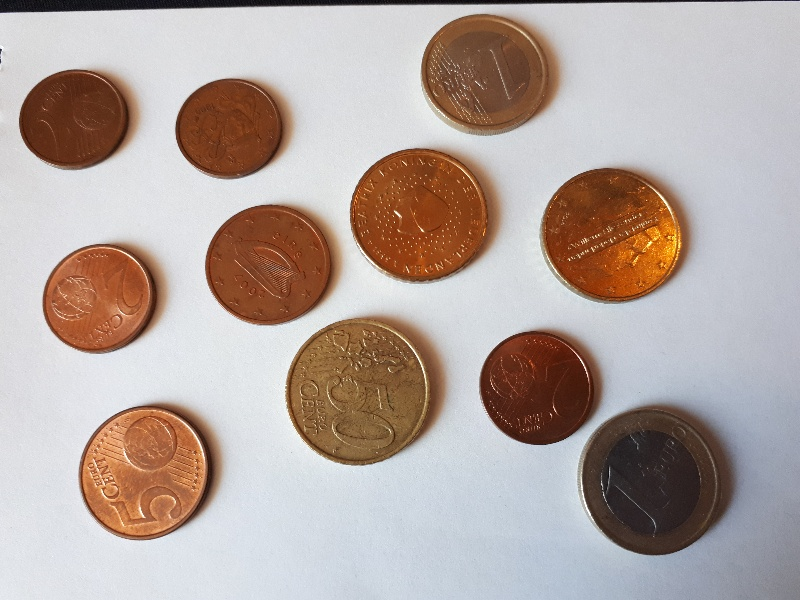1 euro: (576, 403, 722, 553), (417, 12, 550, 137)
2 cent: (477, 328, 597, 449), (39, 241, 159, 356), (16, 67, 131, 170), (172, 75, 284, 180)
5 cent: (72, 402, 216, 546), (201, 203, 336, 328)
50 cent: (281, 316, 438, 469), (347, 148, 493, 287), (540, 166, 684, 305)
